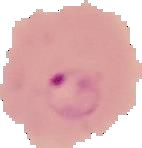parasitized: (41, 62, 103, 124)
